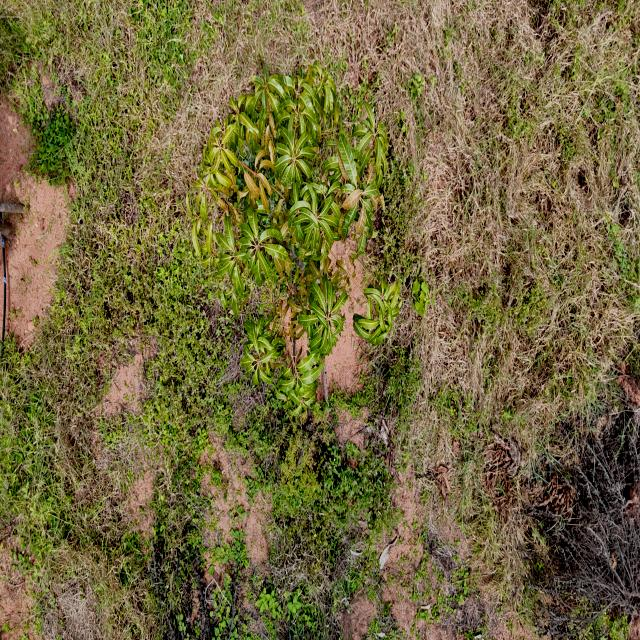mangoTree: (186, 61, 403, 424)
